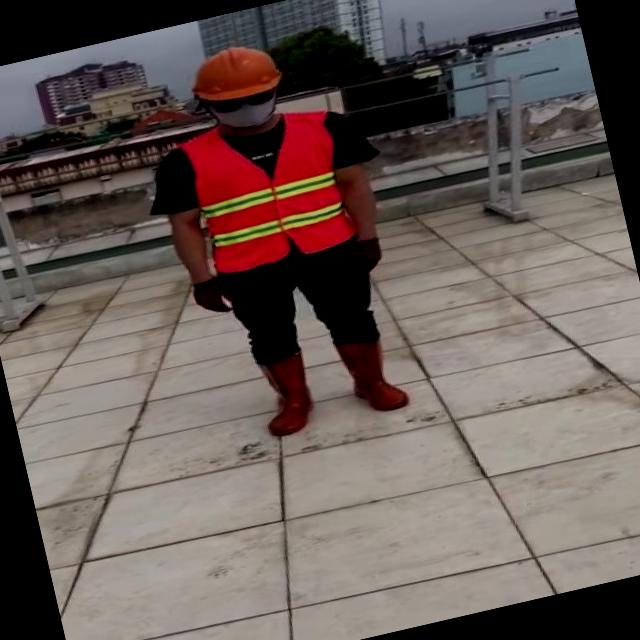boots: (332, 331, 412, 421), (250, 349, 320, 440)
helmet: (185, 31, 294, 110)
vest: (182, 107, 357, 276)
